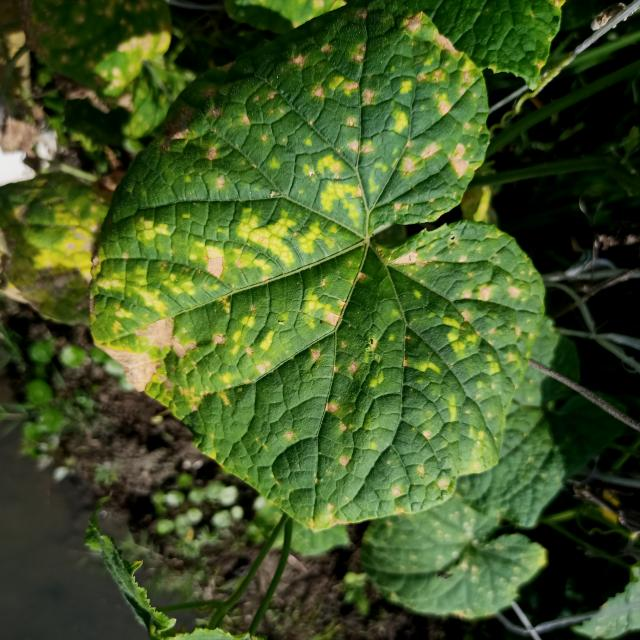disease_cucumber: (87, 1, 539, 519)
